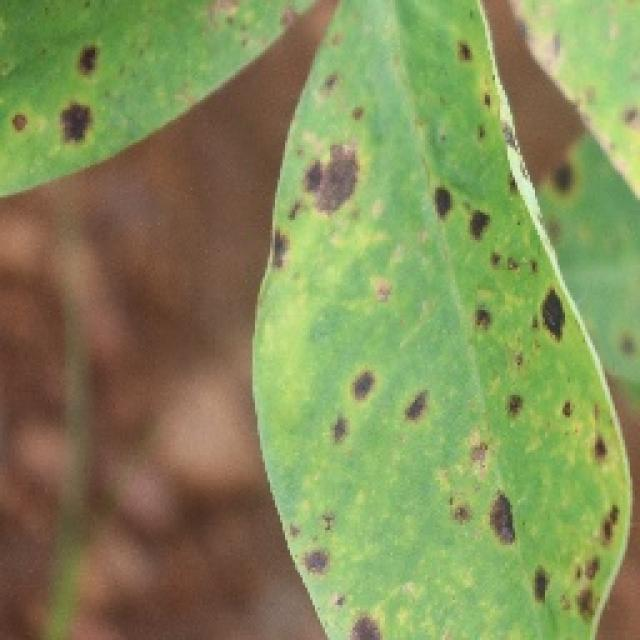Yellowish: (228, 5, 632, 640), (0, 0, 172, 190)
